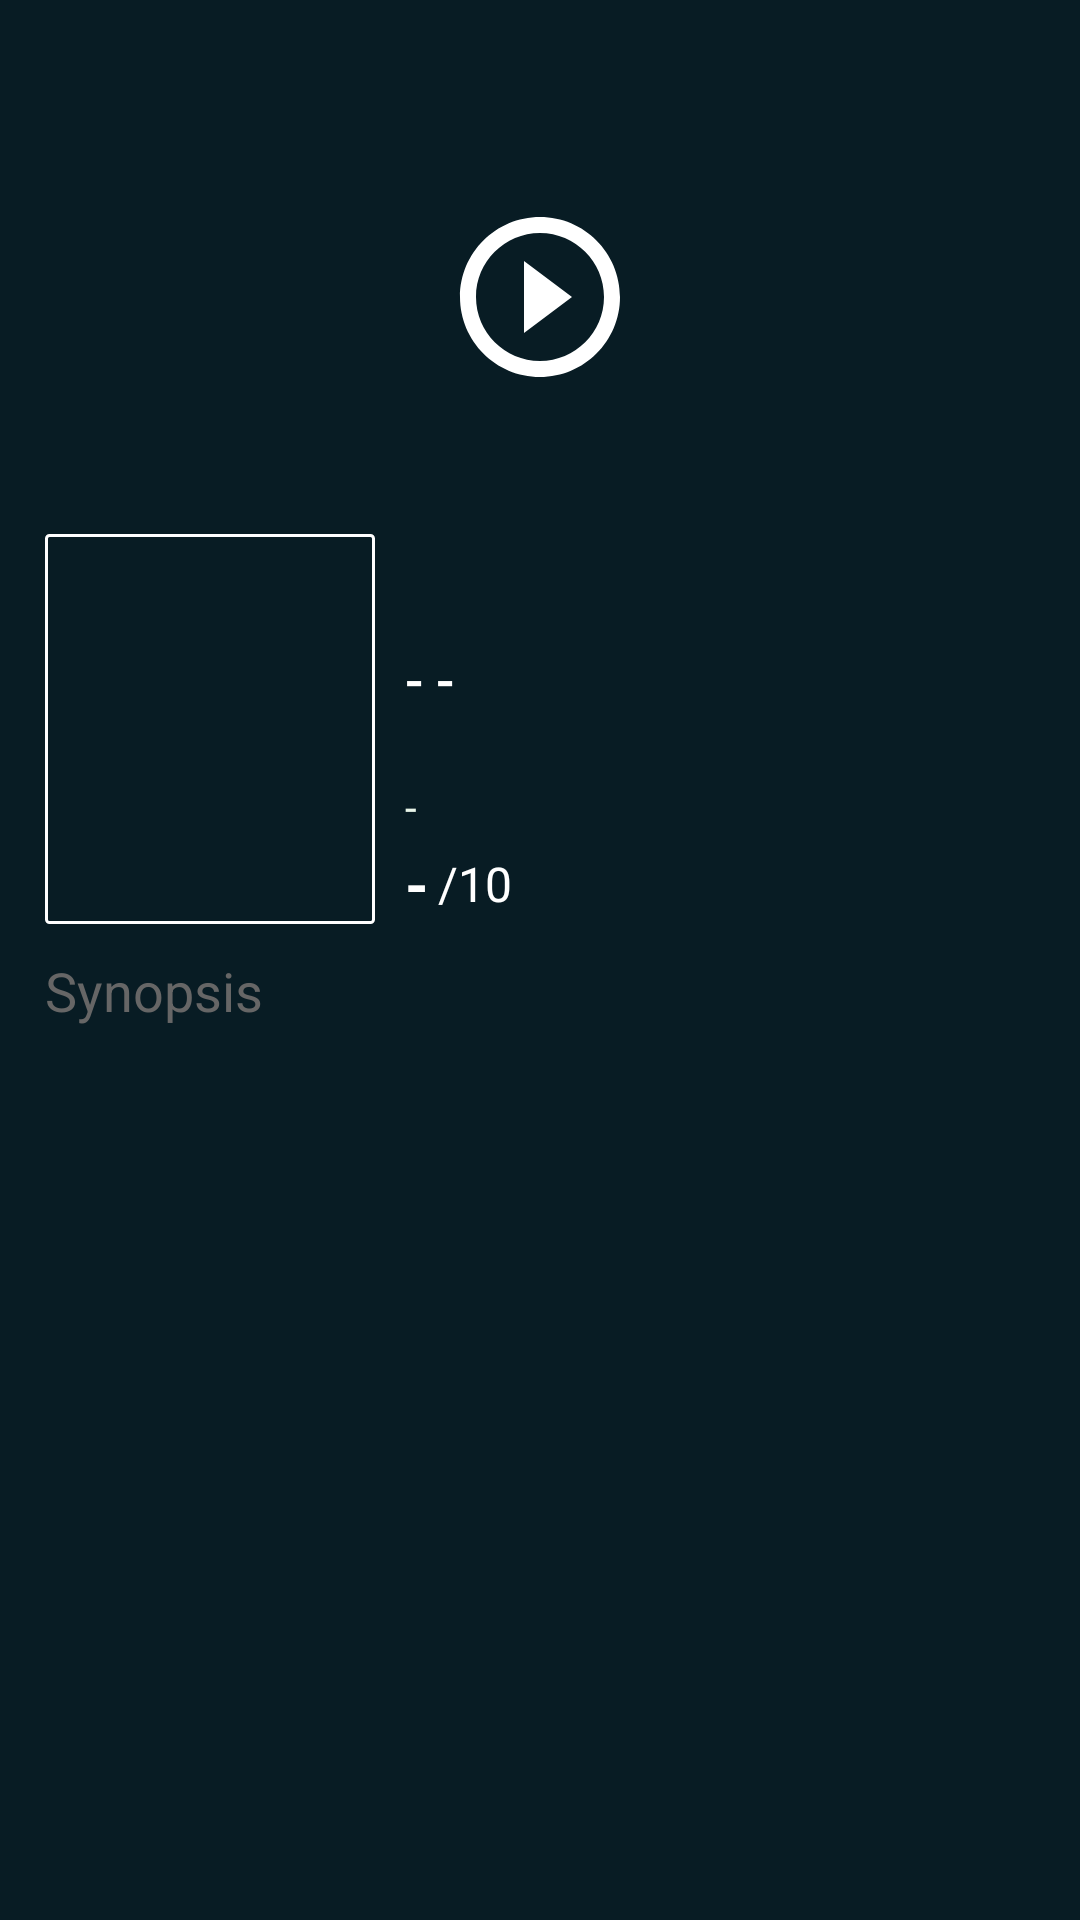

Icon bounding boxes for this 1080×1920 phone screenshot, format (x1, y1, x2, y2):
Trailer Player: (460, 217, 620, 377)
